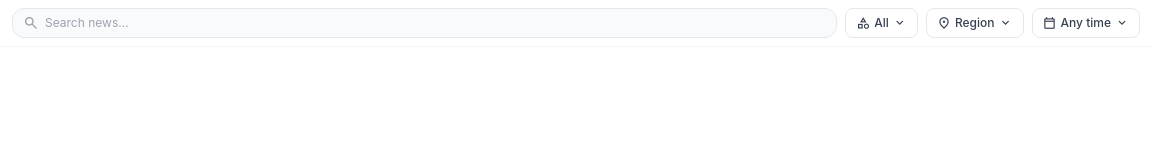
Test case: FilterBar › uses elevated z-index classes so dropdown menus render above feed content
expect the element showing "All Region Any time" is shown: met, box [0,0,1151,47]
Click the button "All".
click(882, 23)  # box [845,8,918,38]
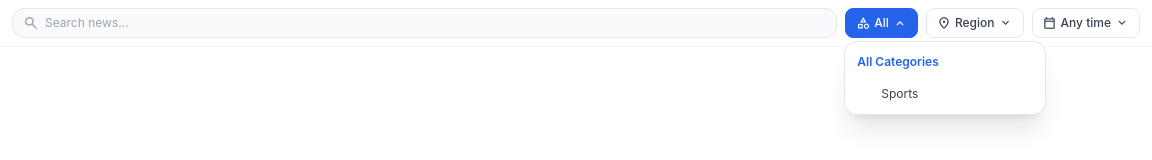
expect the element with test id "filter-dropdown-menu" is shown: met, box [845,42,1045,114]
